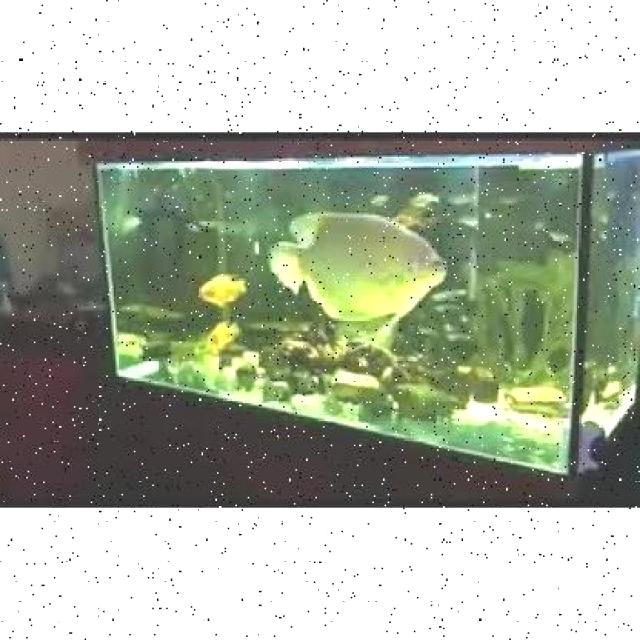gurame: (270, 206, 453, 332)
